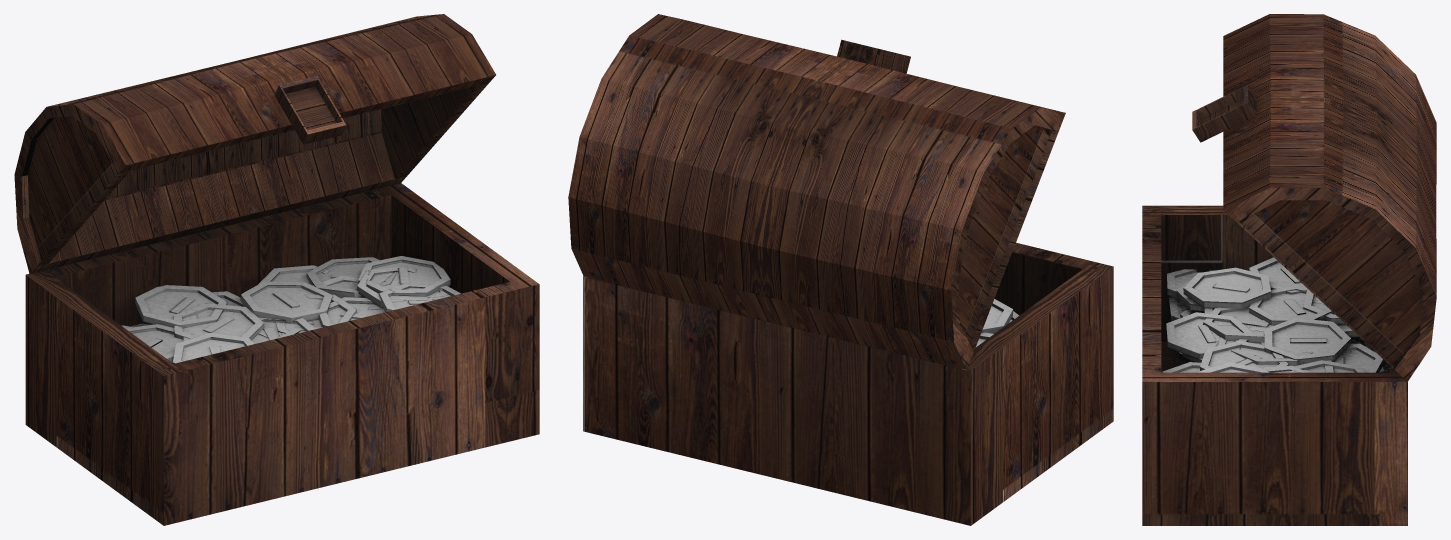
File: treasure_chest.glb
The picture shows the model from 3 angles, left to right: view 1: azimuth 30°, elevation 25°; view 2: azimuth 150°, elevation 25°; view 3: azimuth 270°, elevation 25°; orthographic projection. The views are drawn at different scales.
Visible parts, largest first — view 1: Cube, Cube.001, Circle.118; view 2: Cube.001, Cube, Circle.118; view 3: Cube.001, Cube, Circle.118.
Part boxes in pixels (<box>): Cube: <box>25,183,539,525</box>; Cube.001: <box>14,14,495,273</box>; Circle.118: <box>121,256,460,363</box>; Cube.001: <box>568,14,1065,370</box>; Cube: <box>583,242,1113,525</box>; Circle.118: <box>975,299,1019,347</box>; Cube.001: <box>1192,14,1436,381</box>; Cube: <box>1142,205,1407,525</box>; Circle.118: <box>1162,257,1388,372</box>.
Size of what is drawn, in the model's own units: 3.66 by 3.34 by 2.59.
3 materials, 3 textured.
